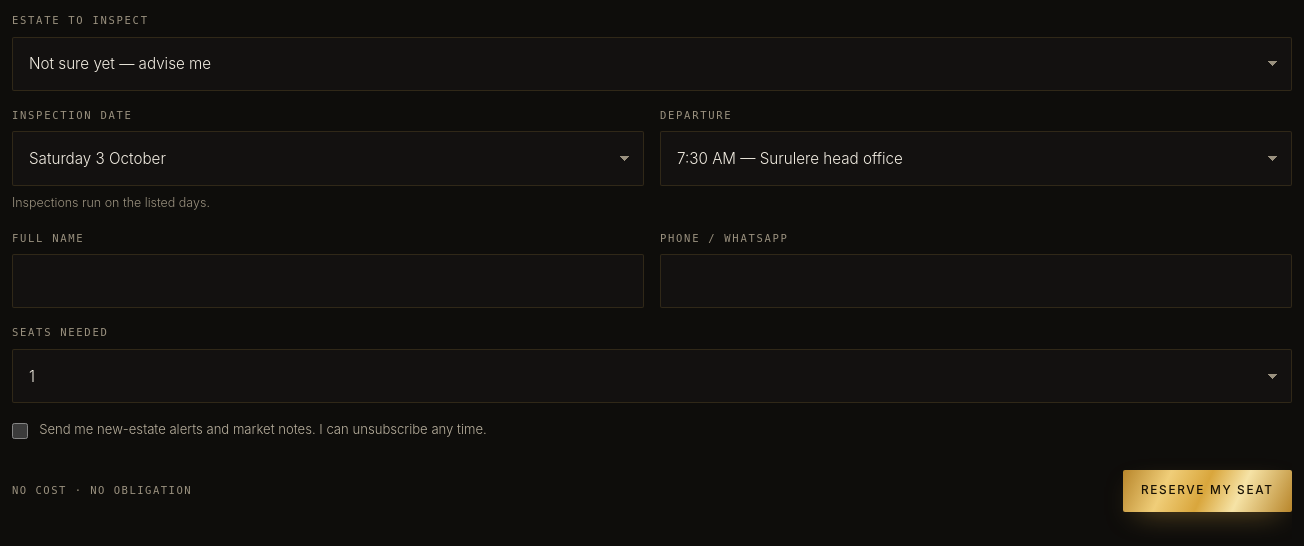
Test case: BookingForm (FR-LEAD-008, TC-LEAD-015) › submits and shows the booking reference
Type "Chidi Anyanwu" into the field labelled "Full name" at (328, 281), box [12,254,644,308]
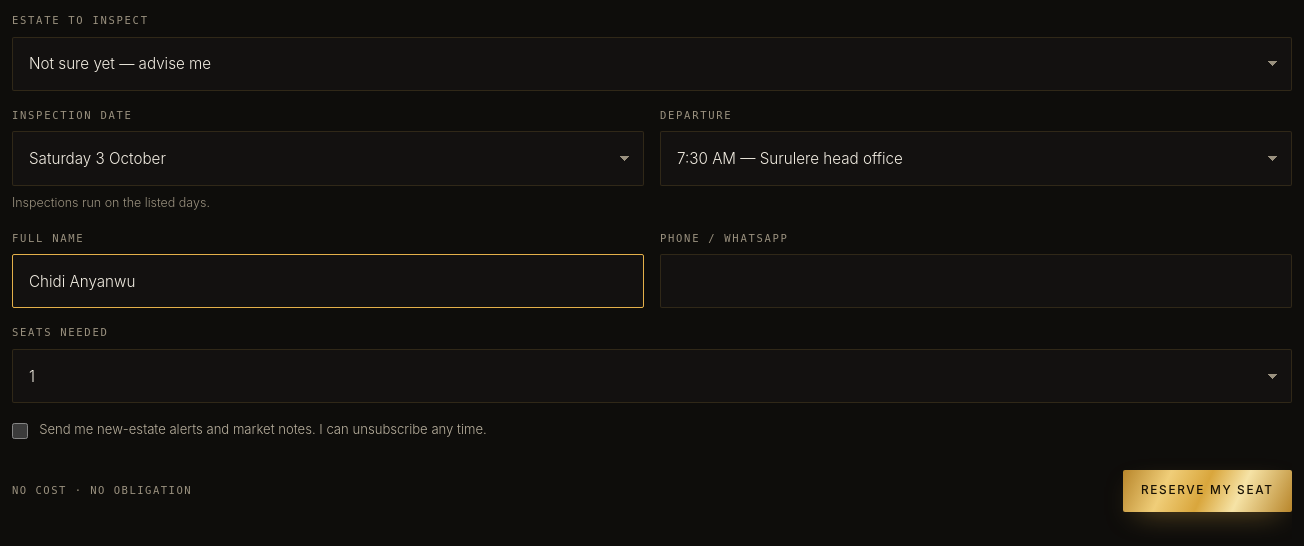
Type "0803 992 1140" into the field labelled "Phone / WhatsApp" at (976, 281), box [660,254,1292,308]
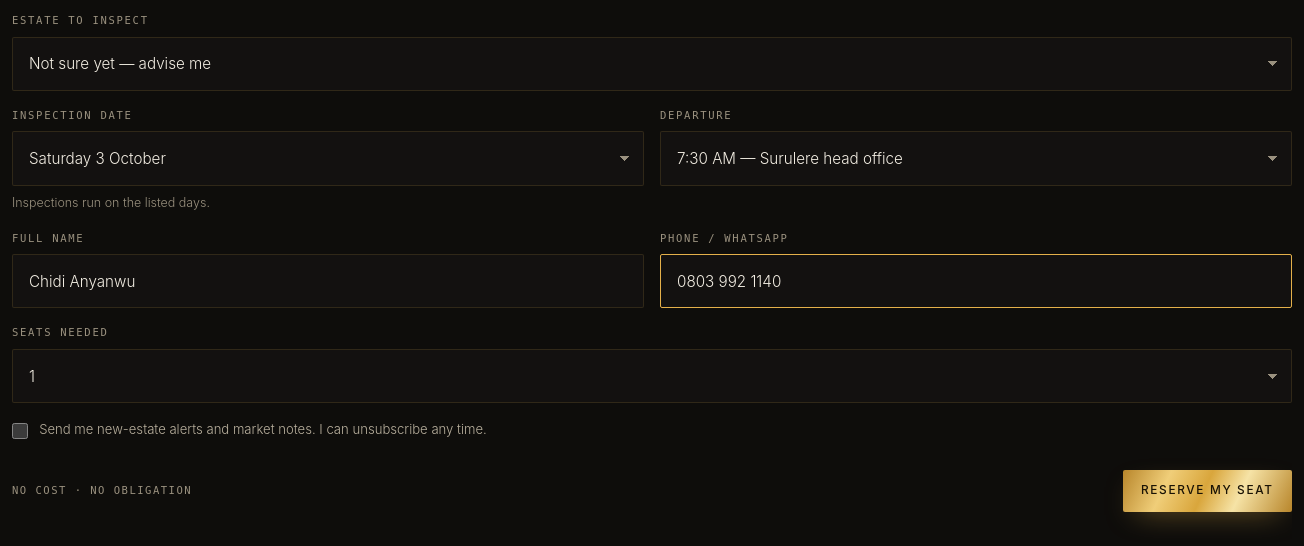
Click the button "Reserve my seat" at (1207, 491), box [1123,470,1292,512]
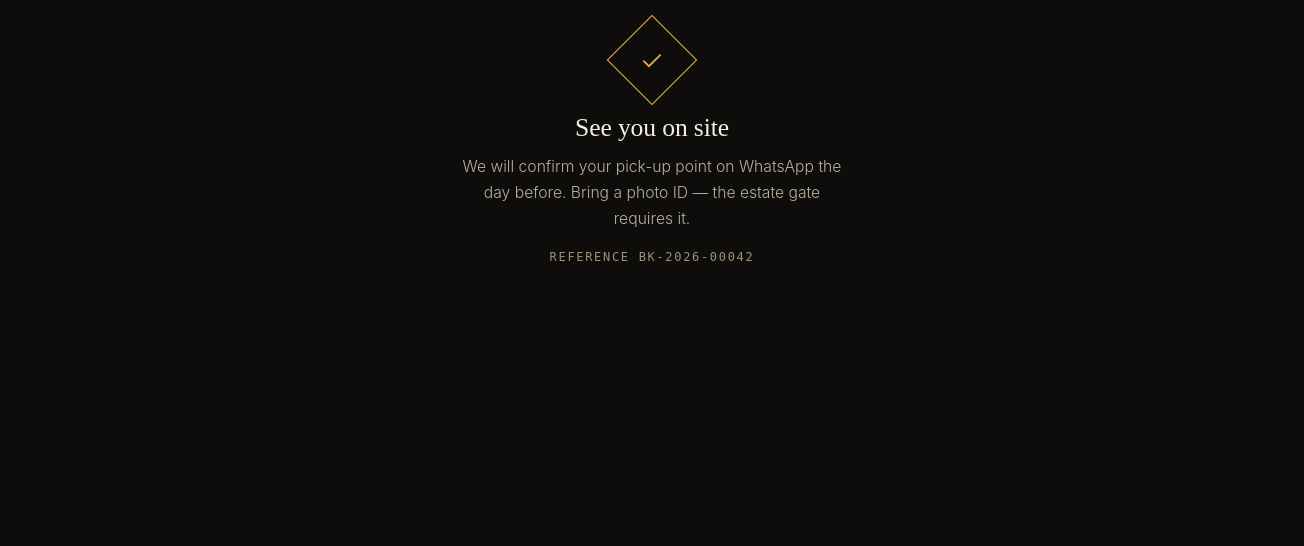
Expected: the text "REFERENCE BK-2026-00042" is shown, [550,250,754,264]
